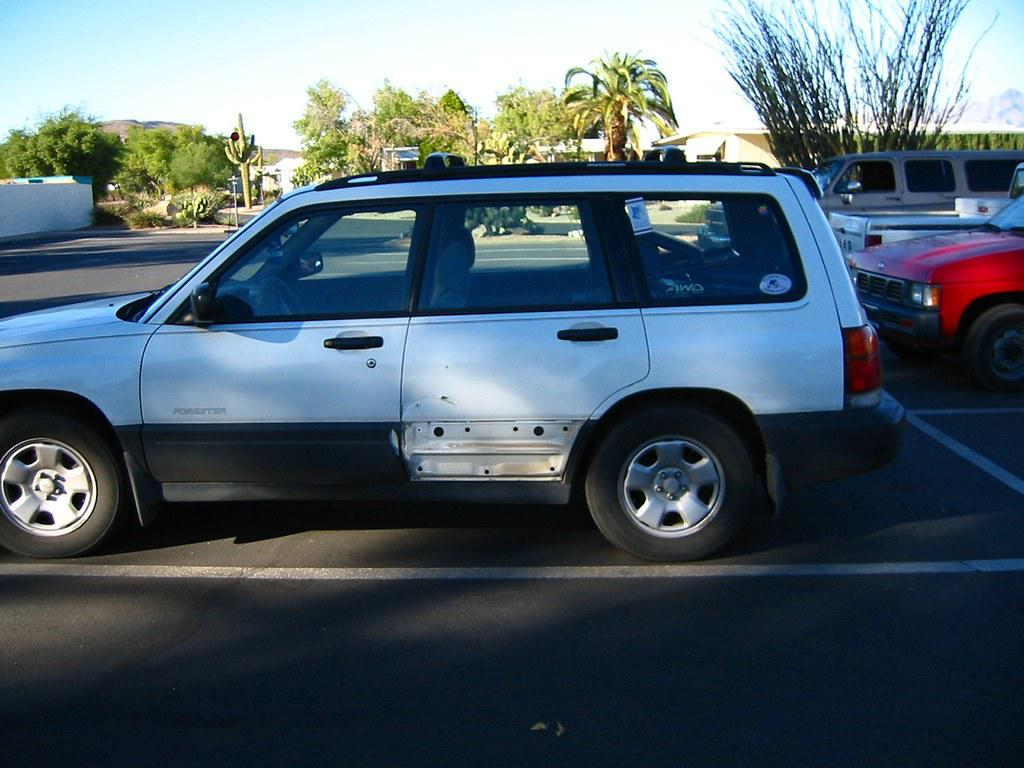doorouter-dent: (396, 328, 638, 488), (146, 333, 385, 488)
